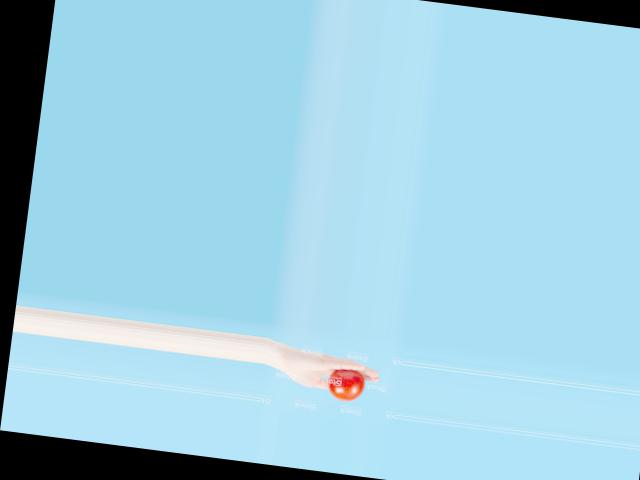tomato: (326, 367, 366, 402)
